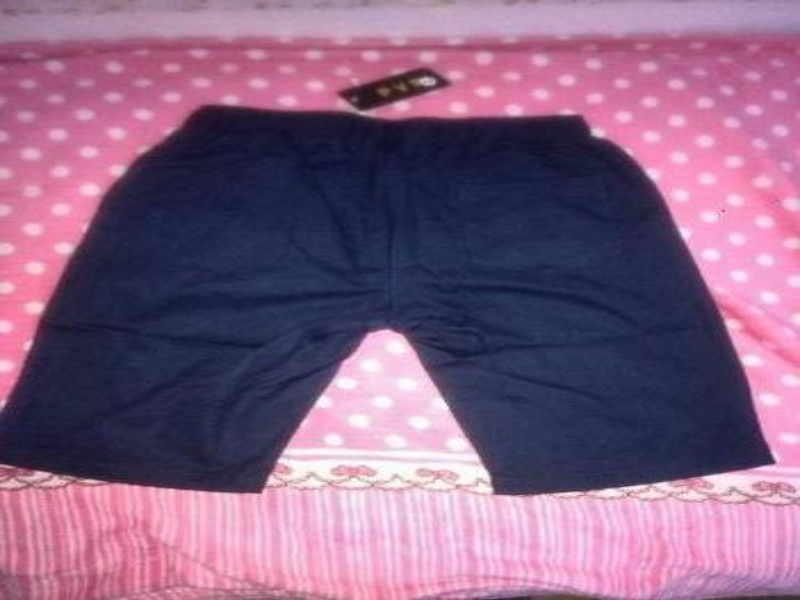shorts: (0, 103, 779, 501)
